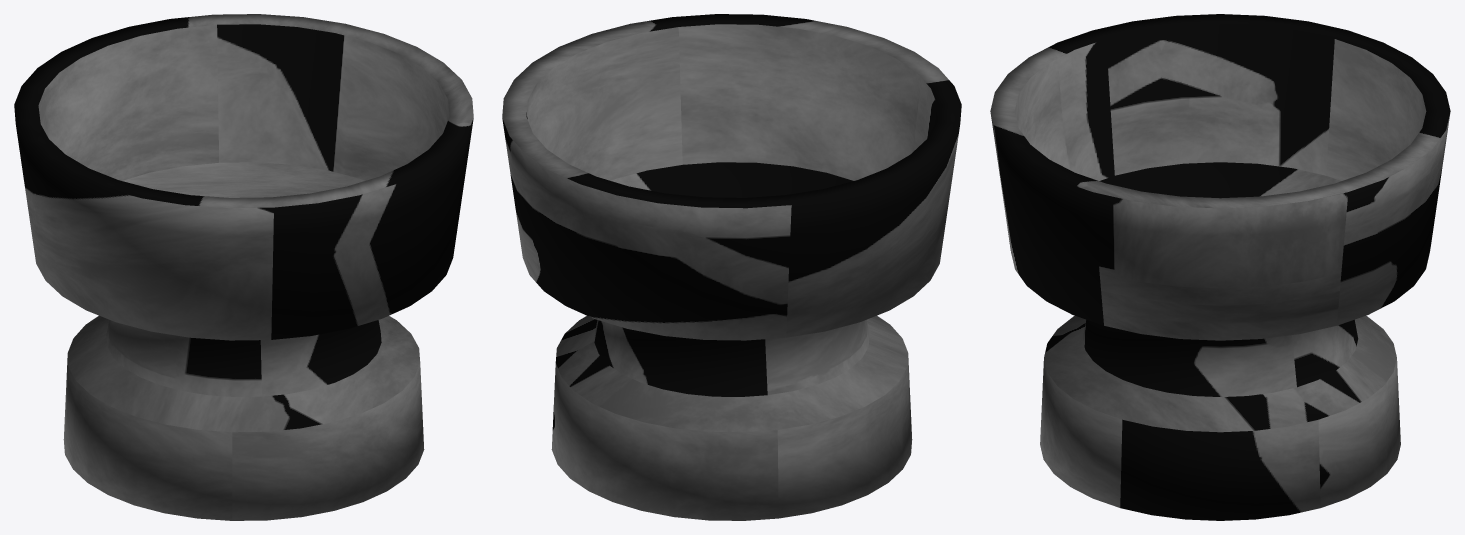
Rendered from Goddess hat.fbx.
3 views of the same model, side by side, from view 1: azimuth 30°, elevation 25°; view 2: azimuth 150°, elevation 25°; view 3: azimuth 270°, elevation 25° (orthographic).
Visible parts, largest first — view 1: Brazier; view 2: Brazier; view 3: Brazier.
Boxes of the visible parts, left/top/right/bottom form: Brazier: left=14, top=14, right=473, bottom=520; Brazier: left=502, top=14, right=961, bottom=520; Brazier: left=990, top=14, right=1450, bottom=520.
Bounding box in the file's own units: 26.63 × 21.29 × 26.63.
